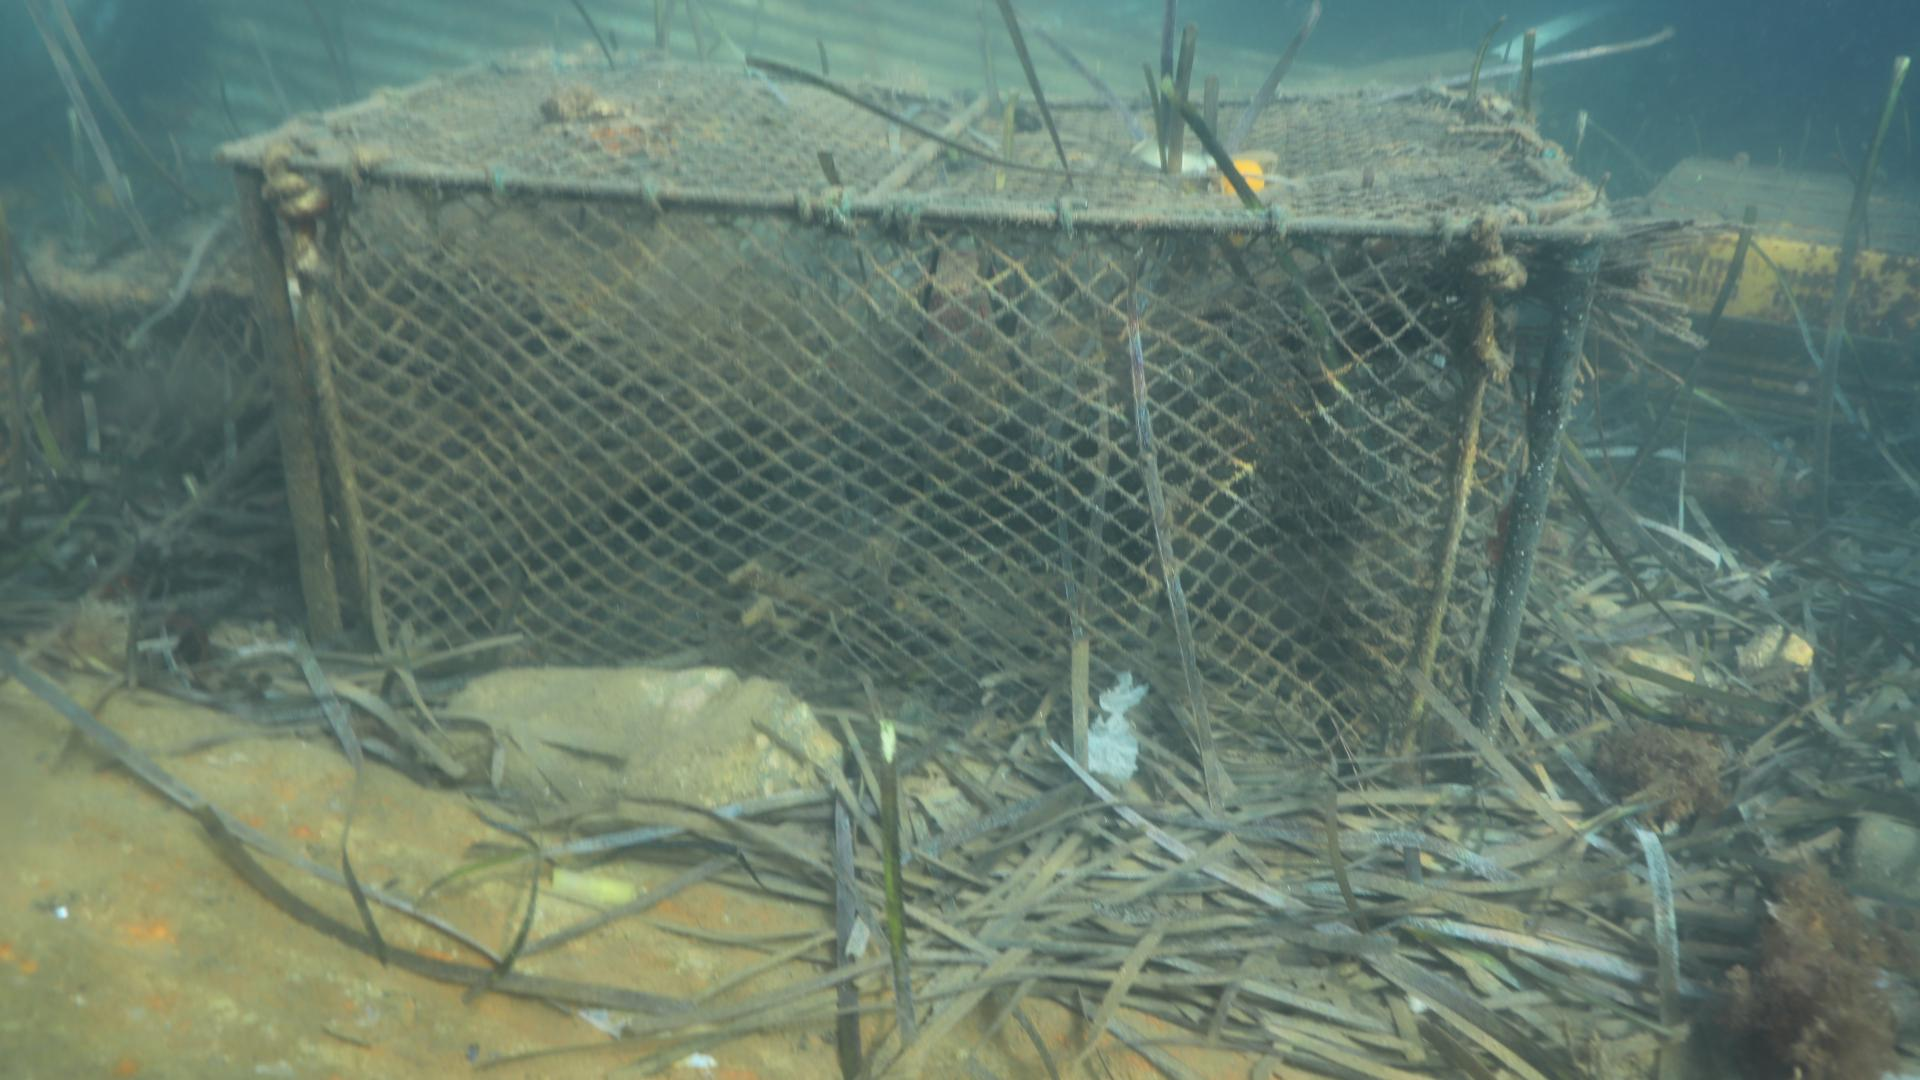rectangular fish trap: (222, 58, 1621, 815)
